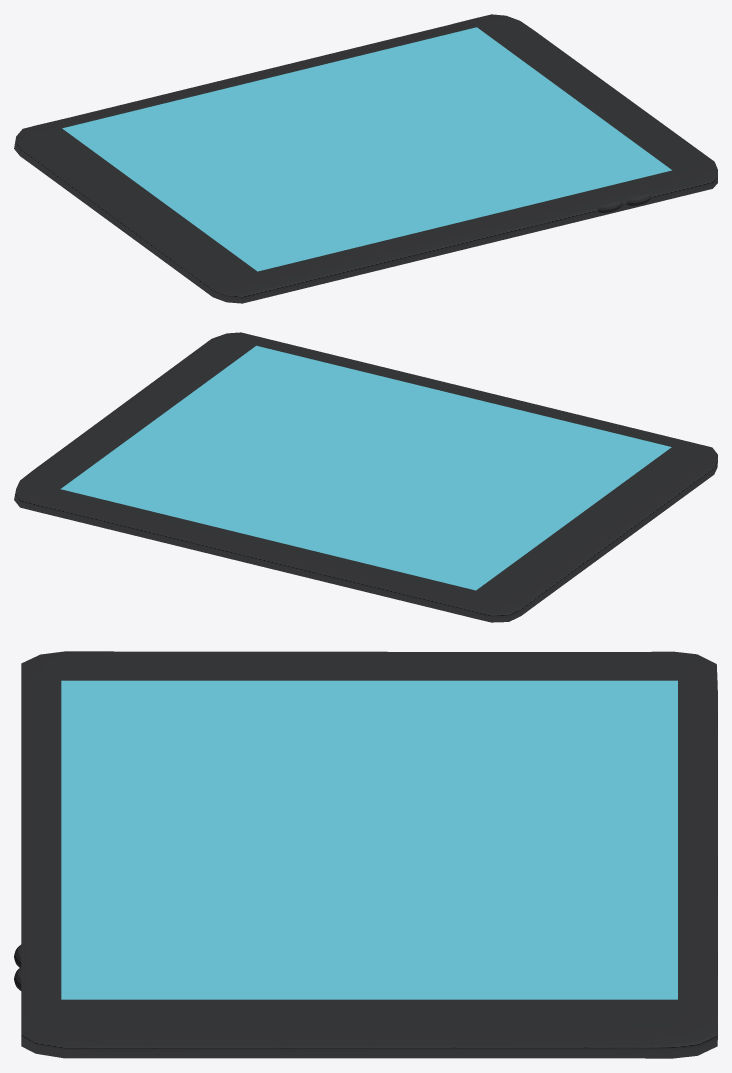
Rendered from planshet3.fbx.
The picture shows the model from 3 angles, top to bottom: view 1: azimuth 30°, elevation 25°; view 2: azimuth 150°, elevation 25°; view 3: azimuth 270°, elevation 25°; orthographic projection. The views are drawn at different scales.
Visible parts, largest first — view 1: Плоскость, Cube; view 2: Плоскость, Cube; view 3: Плоскость, Cube.
Part boxes in pixels (x1,y1,x2,y2): Плоскость: (62, 27, 671, 271); Cube: (14, 14, 717, 303); Плоскость: (60, 345, 671, 590); Cube: (14, 332, 717, 622); Плоскость: (61, 680, 677, 999); Cube: (21, 651, 717, 1058).
Bounding box in the file's own units: 200 × 6.1 × 154.
